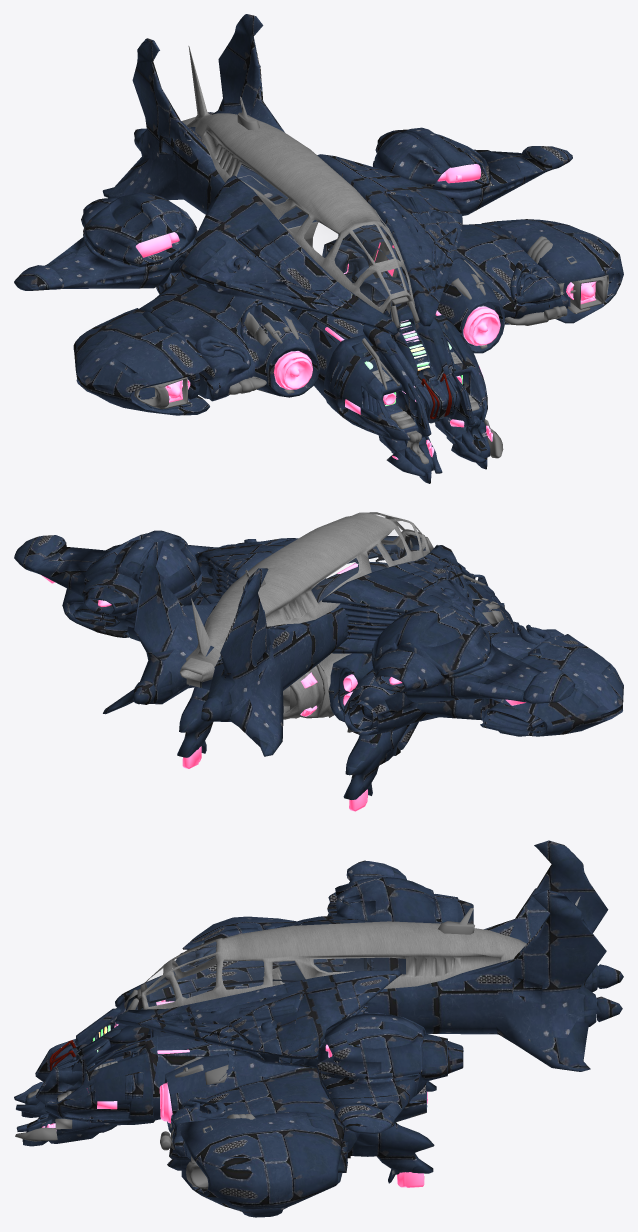
File: combat-light.glb
The picture shows the model from 3 angles, top to bottom: view 1: azimuth 30°, elevation 25°; view 2: azimuth 150°, elevation 25°; view 3: azimuth 270°, elevation 25°; orthographic projection. The views are drawn at different scales.
Parts seen in each view (by area): view 1: Alien Spaceship part_001_Blue spaceship wall sci-fi.006_0, Alien Spaceship part_006_Blue spaceship wall sci-fi.009_0, Alien Spaceship part_028_brushed_aluminum_70_77_0, Alien Spaceship part_107_Basic Metal_0, Alien Spaceship part_001_Material.001_0; view 2: Alien Spaceship part_001_Blue spaceship wall sci-fi.006_0, Alien Spaceship part_028_brushed_aluminum_70_77_0, Alien Spaceship part_001_Material.001_0, Alien Spaceship part_006_Blue spaceship wall sci-fi.009_0, Alien Spaceship part_107_Basic Metal_0; view 3: Alien Spaceship part_001_Blue spaceship wall sci-fi.006_0, Alien Spaceship part_028_brushed_aluminum_70_77_0, Alien Spaceship part_006_Blue spaceship wall sci-fi.009_0, Alien Spaceship part_107_Basic Metal_0, Alien Spaceship part_001_Material.001_0.
Boxes of the visible parts, bbox=[...] form: Alien Spaceship part_001_Blue spaceship wall sci-fi.006_0: bbox=[14, 14, 623, 415]; Alien Spaceship part_006_Blue spaceship wall sci-fi.009_0: bbox=[324, 301, 490, 483]; Alien Spaceship part_028_brushed_aluminum_70_77_0: bbox=[181, 46, 479, 429]; Alien Spaceship part_107_Basic Metal_0: bbox=[134, 96, 608, 464]; Alien Spaceship part_001_Material.001_0: bbox=[135, 164, 596, 459]; Alien Spaceship part_001_Blue spaceship wall sci-fi.006_0: bbox=[14, 530, 623, 799]; Alien Spaceship part_028_brushed_aluminum_70_77_0: bbox=[180, 512, 429, 719]; Alien Spaceship part_001_Material.001_0: bbox=[41, 563, 525, 811]; Alien Spaceship part_006_Blue spaceship wall sci-fi.009_0: bbox=[354, 534, 519, 634]; Alien Spaceship part_107_Basic Metal_0: bbox=[243, 533, 503, 732]; Alien Spaceship part_001_Blue spaceship wall sci-fi.006_0: bbox=[115, 840, 623, 1217]; Alien Spaceship part_028_brushed_aluminum_70_77_0: bbox=[57, 896, 580, 1101]; Alien Spaceship part_006_Blue spaceship wall sci-fi.009_0: bbox=[14, 994, 158, 1146]; Alien Spaceship part_107_Basic Metal_0: bbox=[15, 908, 474, 1188]; Alien Spaceship part_001_Material.001_0: bbox=[42, 1000, 427, 1187].
Size of the model in its own units: 2.83 by 1.36 by 2.68.
Materials: 8 (8 with a texture image).
